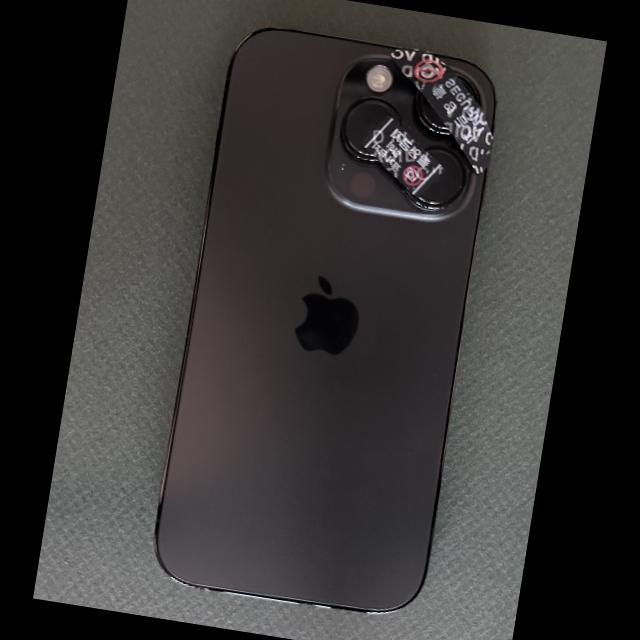lens: (340, 97, 401, 161), (405, 148, 466, 210), (413, 90, 450, 134)
phone: (153, 26, 497, 615)
sticker: (388, 47, 494, 174), (360, 115, 444, 197)
